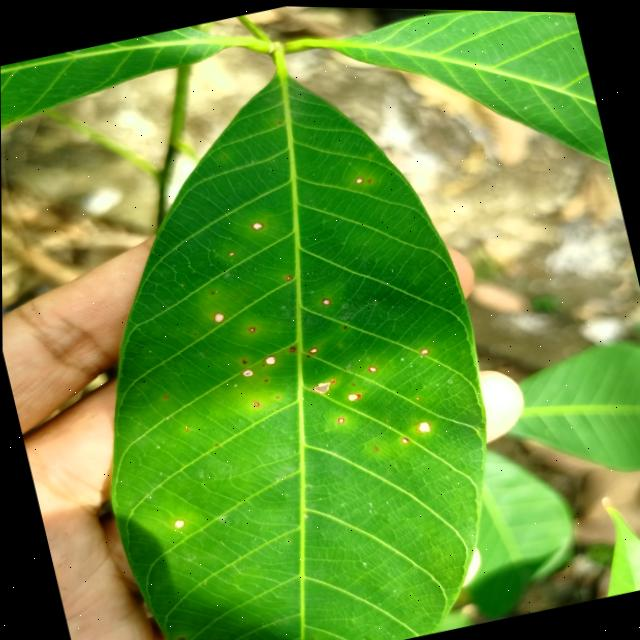Colletotrichum: (414, 418, 430, 431), (210, 310, 224, 322), (345, 389, 360, 400), (262, 354, 275, 365), (249, 219, 262, 230), (171, 517, 184, 528), (239, 367, 252, 377), (305, 345, 317, 353), (365, 363, 376, 371), (418, 346, 428, 354), (320, 296, 330, 304), (335, 414, 344, 422), (353, 175, 362, 183), (398, 434, 408, 441), (287, 344, 295, 352), (246, 325, 255, 332), (251, 399, 258, 406), (227, 250, 233, 256), (283, 274, 290, 279), (241, 358, 246, 363), (414, 395, 418, 398)
